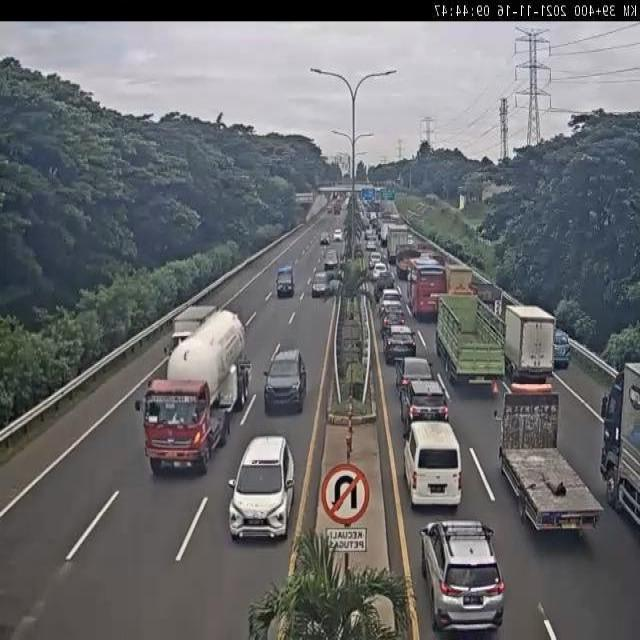Bus: (408, 262, 447, 318)
Car: (420, 520, 507, 633), (225, 437, 296, 543), (263, 346, 307, 414), (399, 378, 449, 434), (395, 355, 433, 391), (383, 324, 416, 365), (553, 330, 571, 370), (275, 264, 294, 298), (311, 271, 330, 297), (324, 249, 338, 270), (373, 262, 387, 279), (370, 251, 382, 267), (333, 228, 343, 242)
Truck: (138, 310, 250, 473), (496, 384, 599, 537), (436, 293, 507, 383), (602, 364, 640, 531), (503, 306, 558, 380), (387, 224, 409, 262)
Van: (403, 422, 462, 509)
